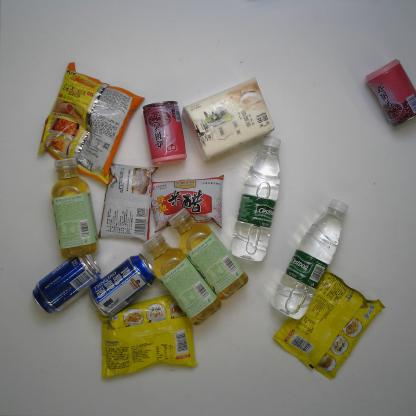Alcohol: (32, 244, 104, 323), (93, 239, 156, 327)
Canned Food: (357, 47, 416, 136), (132, 94, 196, 171)
Drink: (270, 194, 362, 332), (133, 230, 222, 332), (164, 204, 251, 301), (230, 132, 292, 263), (38, 155, 100, 270)
Instant Noodles: (25, 49, 141, 188), (271, 267, 397, 383), (92, 286, 207, 390)
Seasoner: (82, 161, 158, 249), (148, 169, 232, 234)
Tissue: (176, 74, 283, 159)
